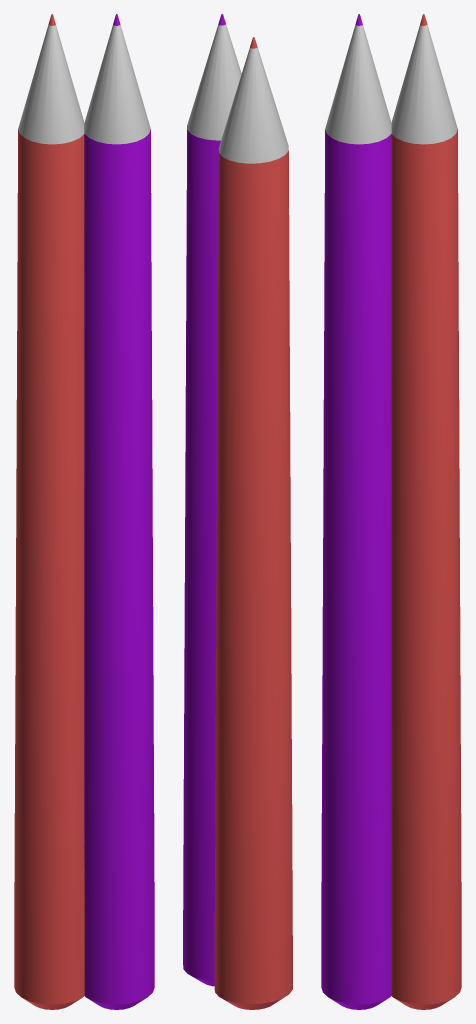
File: Lapices_pant2.fbx
3 views of the same model, side by side, from view 1: azimuth 90°, elevation 25°; view 2: azimuth 210°, elevation 25°; view 3: azimuth 270°, elevation 25° (orthographic). The views are drawn at different scales.
Parts seen in each view (by area): view 1: Cola; view 2: Cola; view 3: Cola.
Boxes of the visible parts, x1,y1,x2,y2 form: Cola: (14,14,154,1009); Cola: (183,14,292,1009); Cola: (321,14,461,1009).
Bounding box in the file's own units: 230 × 3039 × 393.
